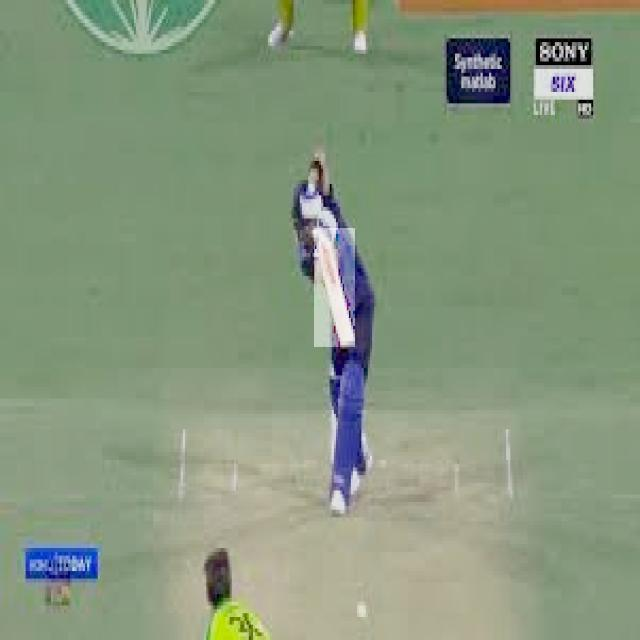bat: (315, 226, 367, 346)
toe: (339, 335, 358, 346)
